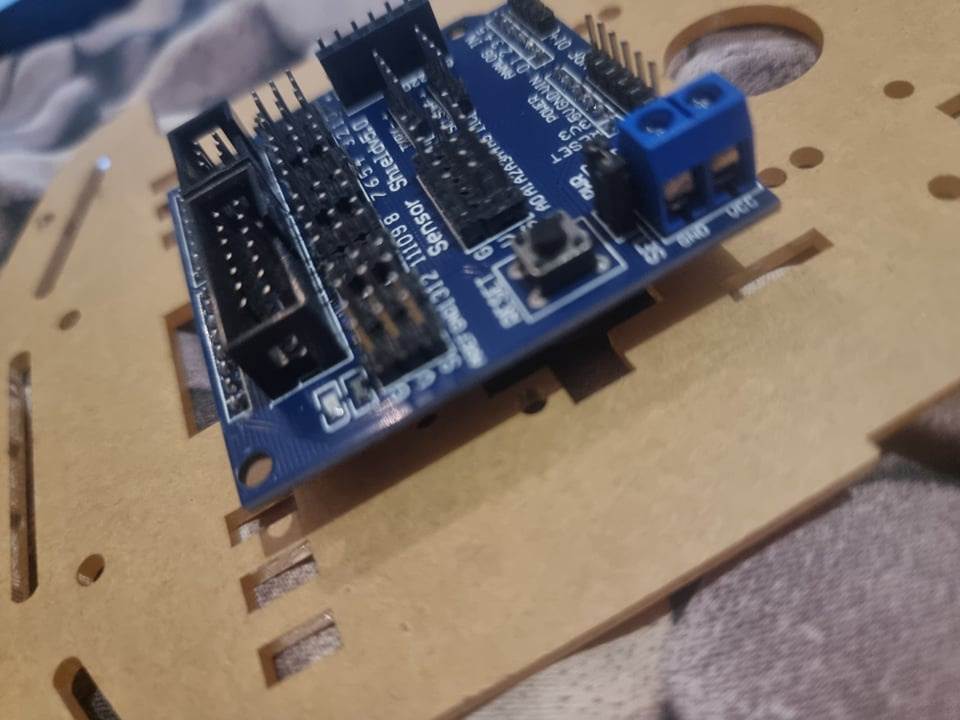5V EXPANSION: (160, 1, 782, 513)
